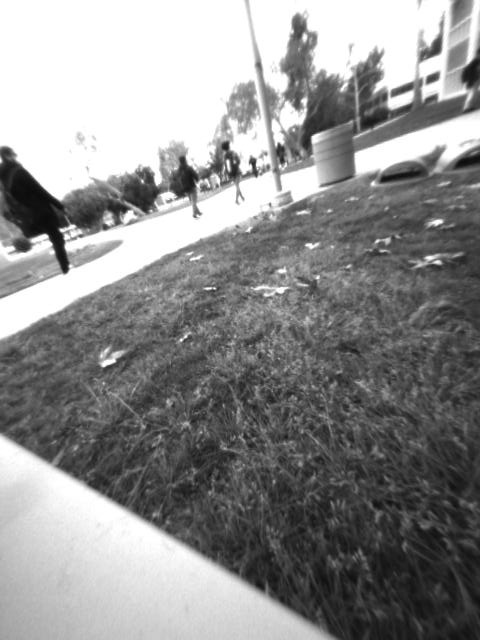trashcan: (309, 118, 359, 187)
